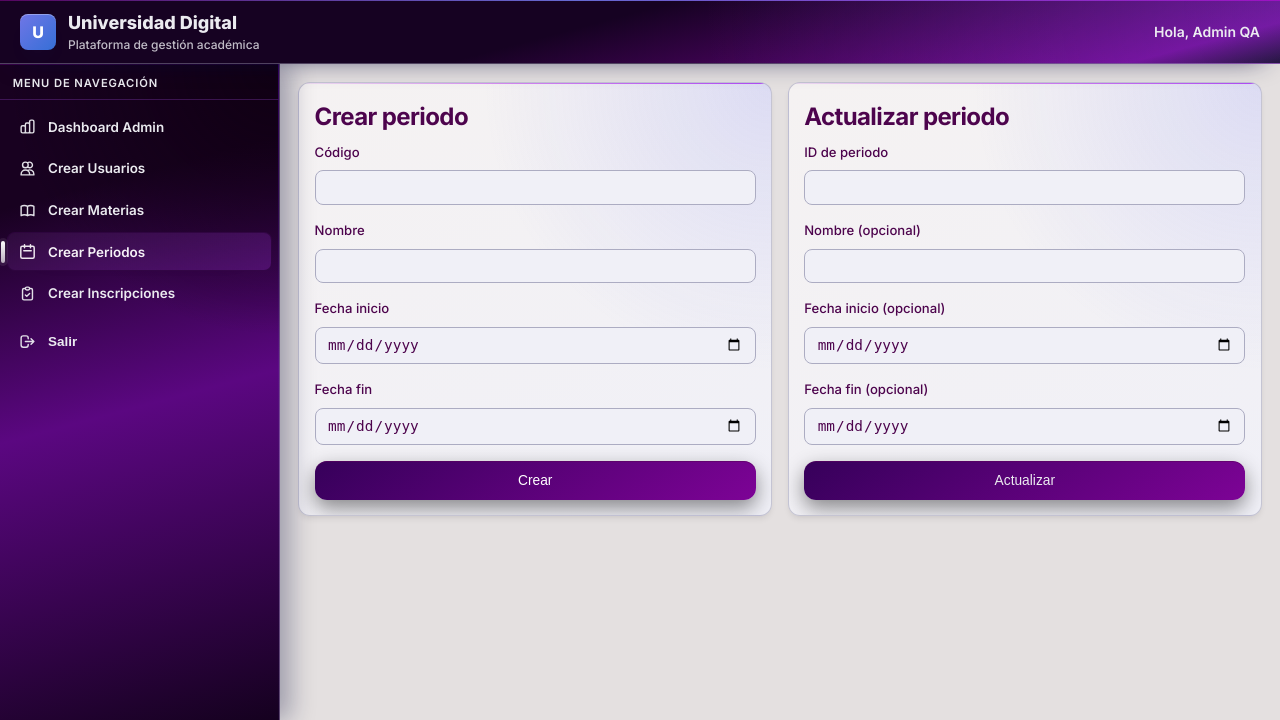
Scenario: Periodos — Gestión básica › actualiza periodo existente
In the field named "id": x=1025, y=188 [804,170,1245,205], type "77"
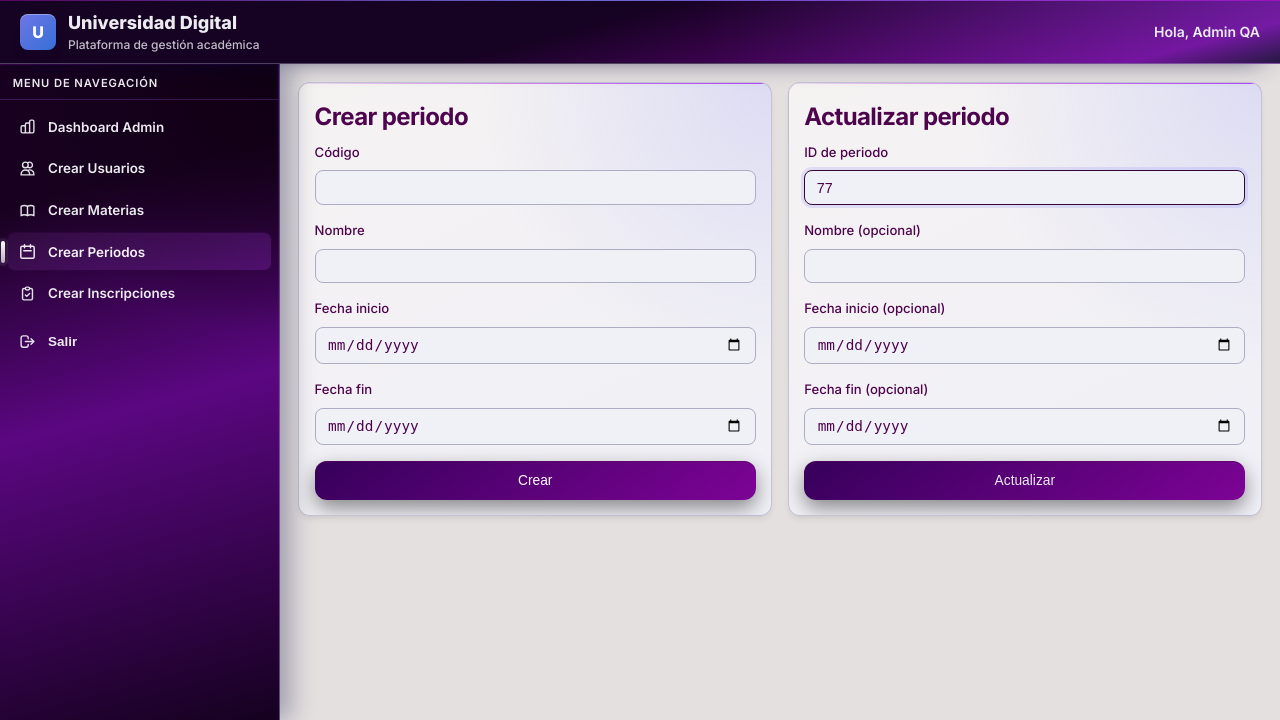
In the field named "name": x=1025, y=267 [804,249,1245,284], type "Periodo 2026-A Modificado"
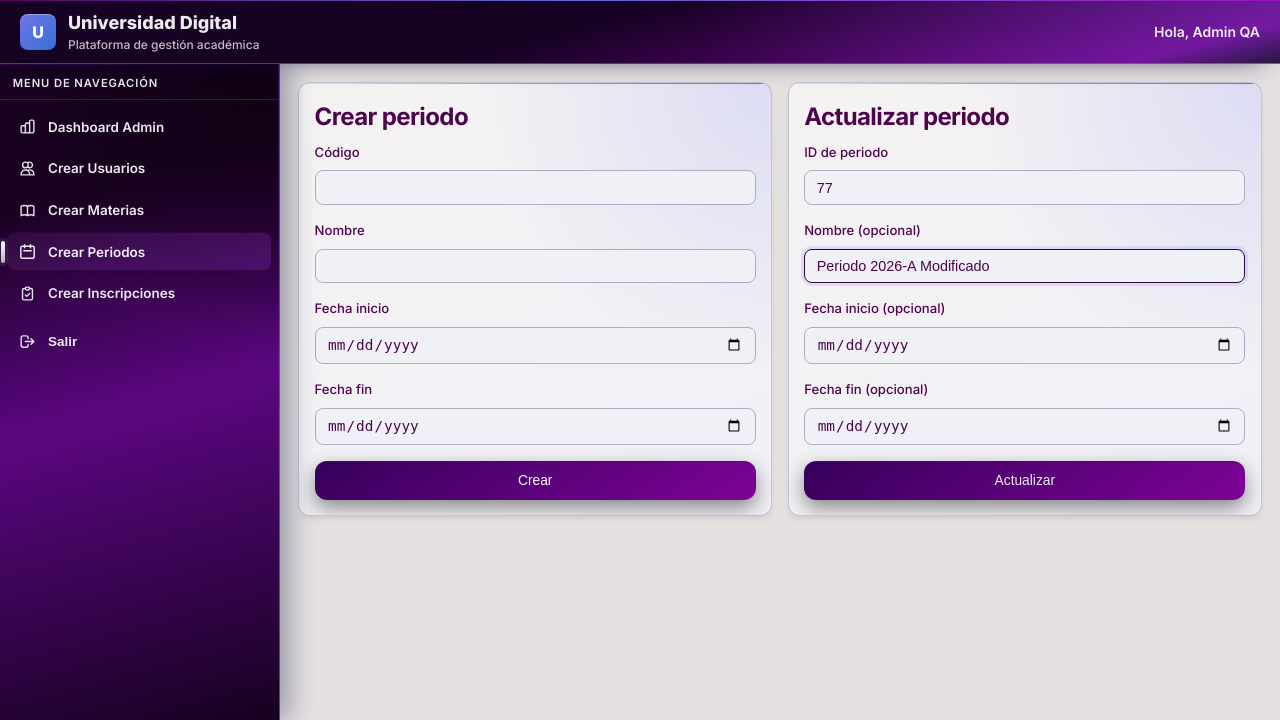
In the date field named "start_date" below "Fecha inicio (opcional)": x=1025, y=346 [804,327,1245,364], type "2026-01-12"
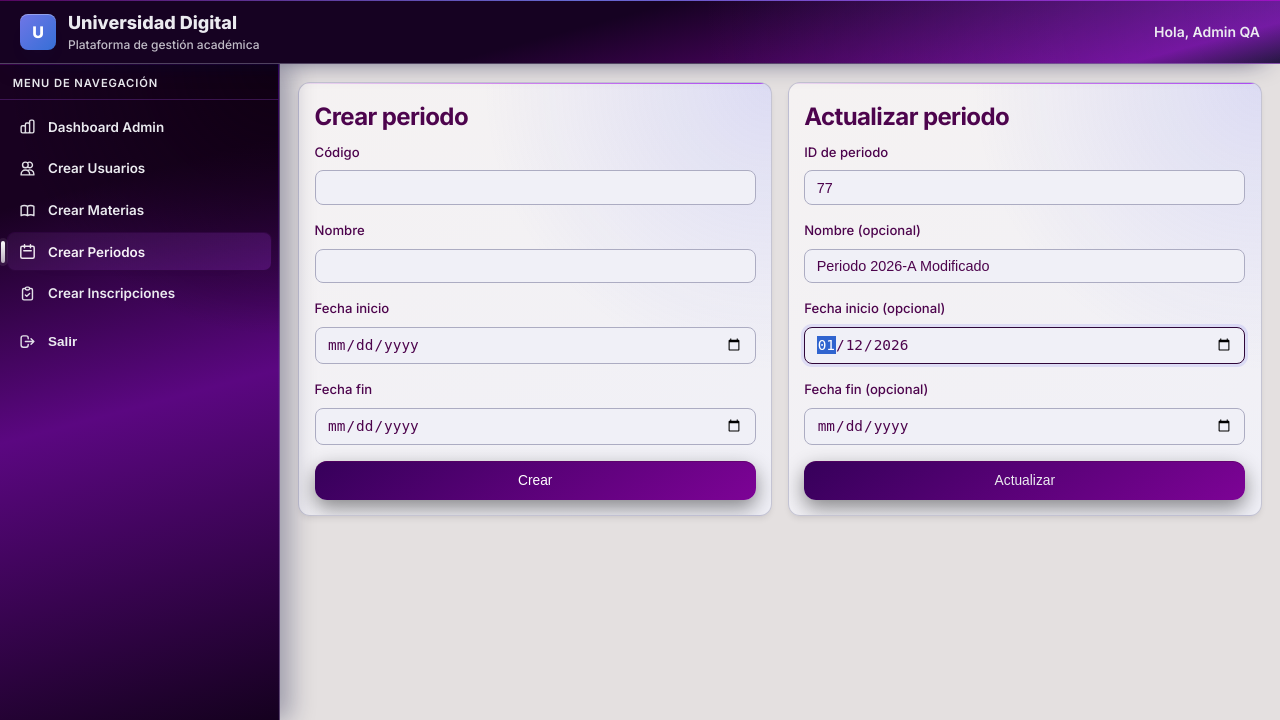
In the date field named "end_date" below "Fecha fin (opcional)": x=1025, y=427 [804,408,1245,445], type "2026-06-15"
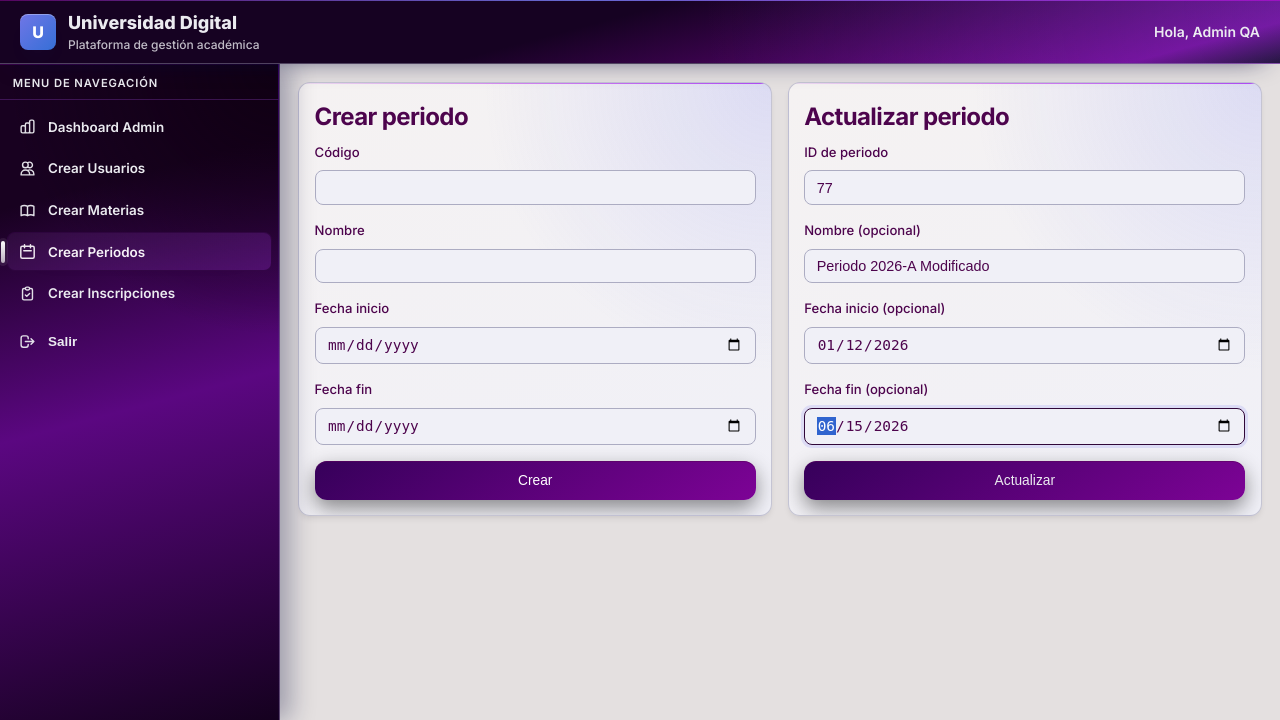
Click the button "Actualizar": x=1025, y=481 [804,461,1245,500]
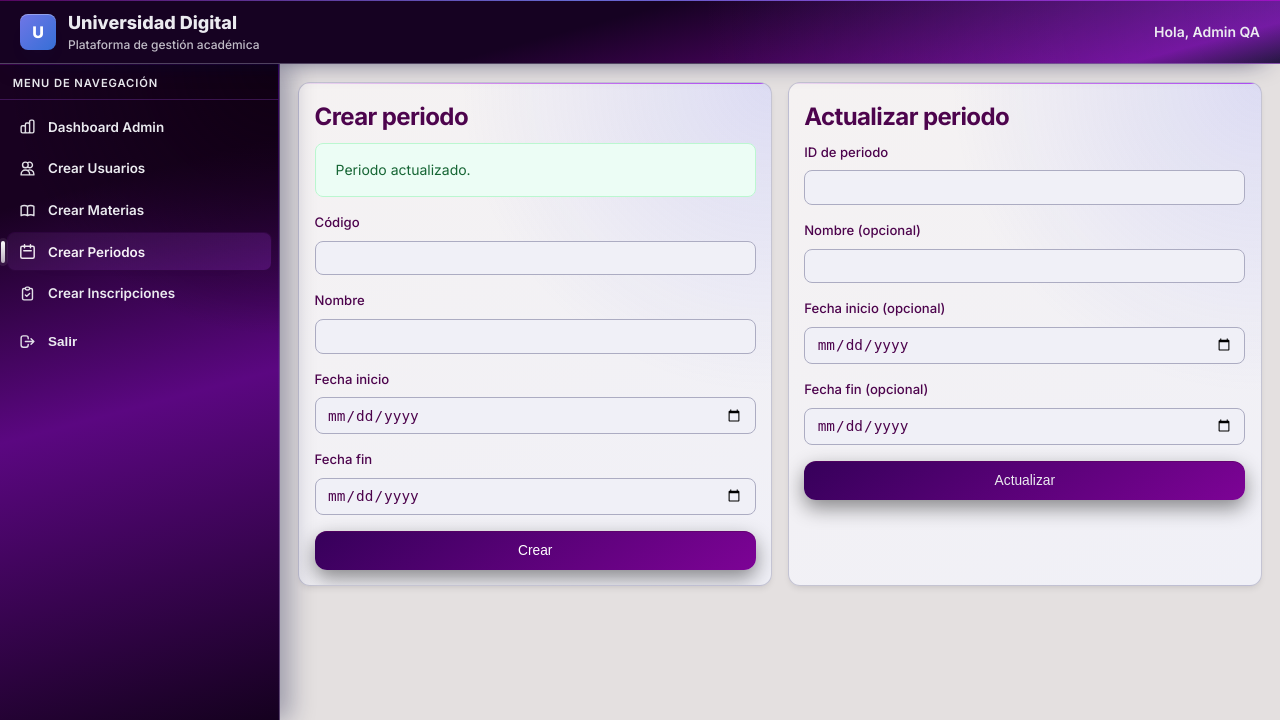
Result: the text "Periodo actualizado." is shown at [315,143,756,197]
